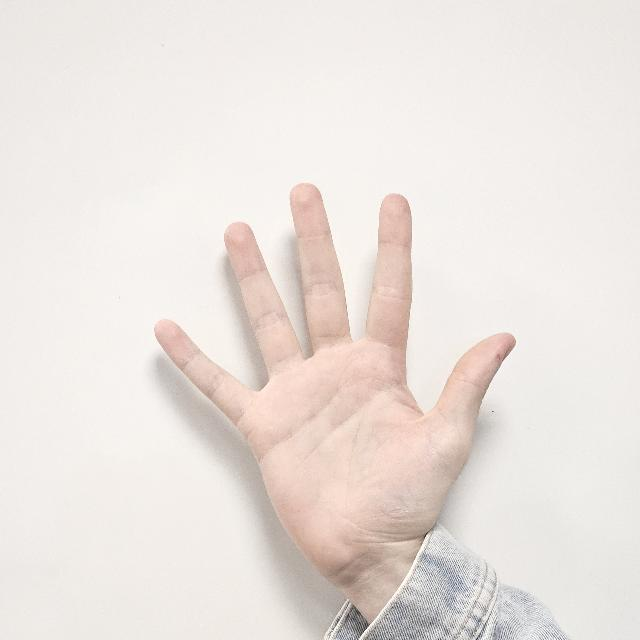X: (151, 173, 515, 552)
